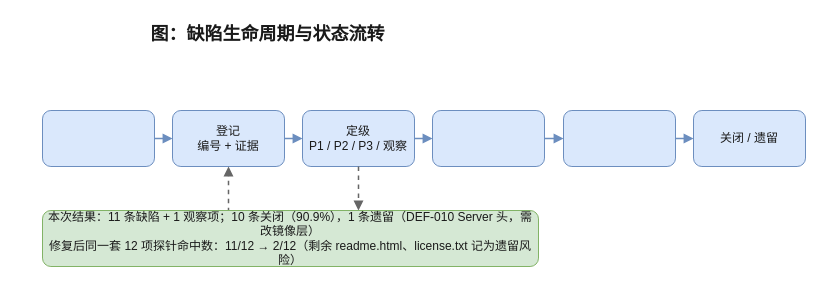
The diagram is 823 pixels wide and 284 high, and some of its shapes have lost their labels. The shapes that lost their labels are listed below. From the top down, each one's box as (x1, y1, x2, y2) in pixels, then its label:
(42, 110, 154, 166): 发现 用例失败 / 探针命中
(432, 110, 544, 166): 修复 配置加固 / 代码补丁
(562, 110, 676, 166): 复测 同一判据重跑
